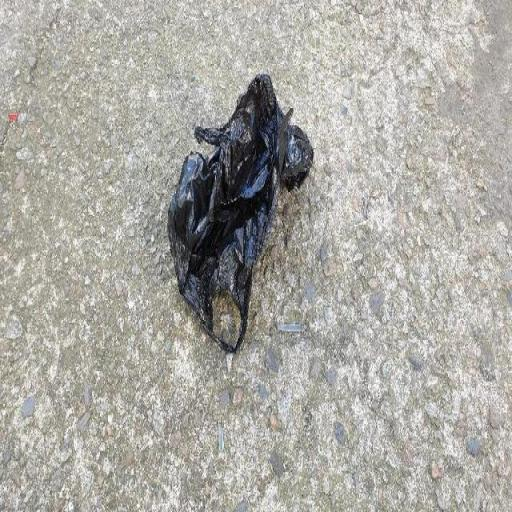plastic-bag: (166, 71, 316, 347)
